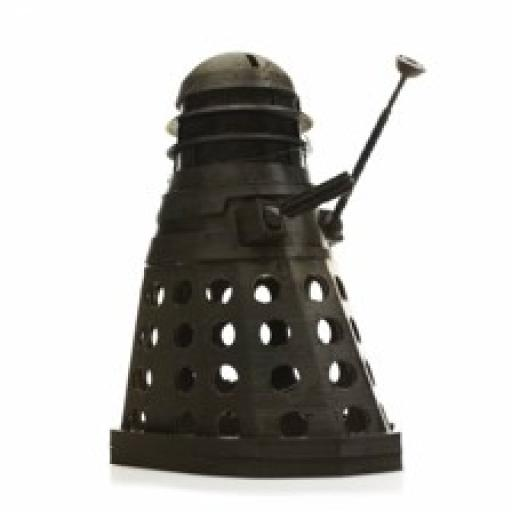dalek: (106, 40, 428, 478)
